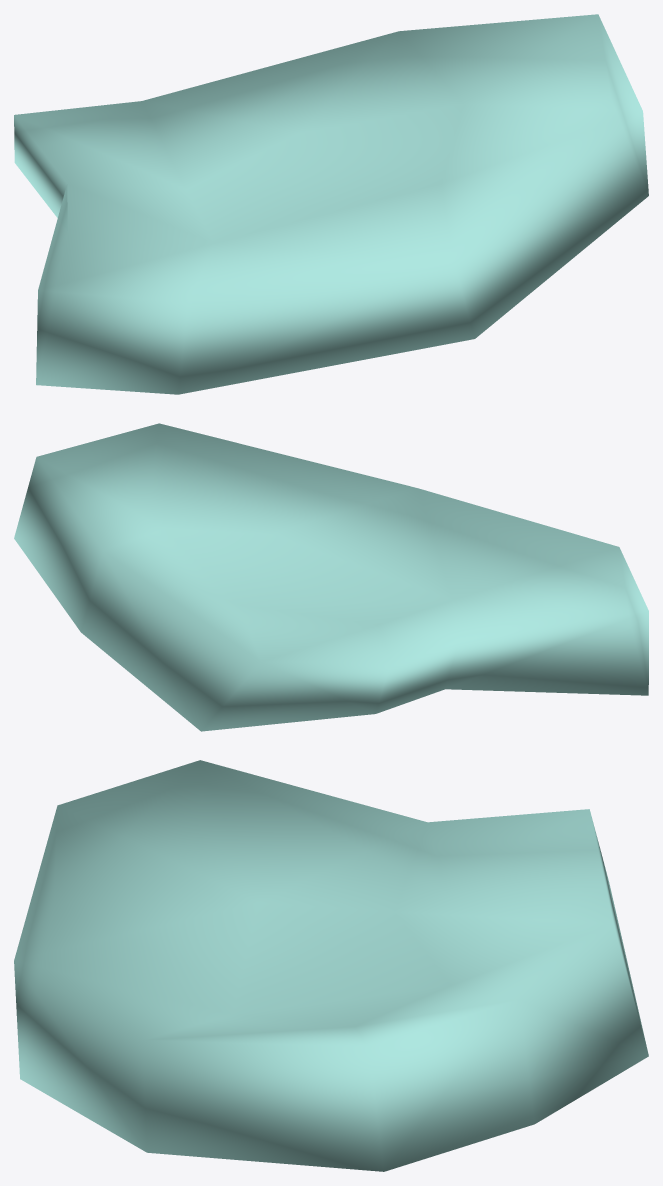
Rendered from tr_seaglass02.fbx.
3 views of the same model, one above another, from view 1: azimuth 30°, elevation 25°; view 2: azimuth 150°, elevation 25°; view 3: azimuth 270°, elevation 25° (orthographic). The views are drawn at different scales.
Parts seen in each view (by area): view 1: tr_seaglass02; view 2: tr_seaglass02; view 3: tr_seaglass02.
Part boxes in pixels (x1,y1,x2,y2): tr_seaglass02: [14, 14, 648, 394]; tr_seaglass02: [14, 423, 648, 731]; tr_seaglass02: [14, 760, 648, 1171].
Bounding box in the file's own units: 5.62 × 1.42 × 3.9.
